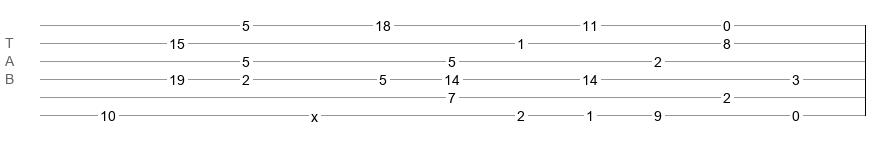0: (723, 18, 731, 28), (792, 108, 800, 118)
1: (517, 36, 525, 46), (586, 108, 594, 118)
10: (100, 108, 116, 118)
11: (582, 18, 598, 28)
14: (444, 72, 460, 82), (582, 72, 598, 82)
15: (169, 36, 185, 46)
18: (375, 18, 391, 28)
19: (169, 72, 185, 82)
2: (242, 72, 250, 82), (517, 108, 525, 118), (654, 54, 662, 64), (723, 90, 731, 100)
3: (792, 72, 800, 82)
5: (242, 54, 250, 64), (242, 18, 250, 28), (379, 72, 387, 82), (448, 54, 456, 64)
7: (448, 90, 456, 100)
8: (723, 36, 731, 46)
9: (654, 108, 662, 118)
x: (311, 109, 318, 117)
